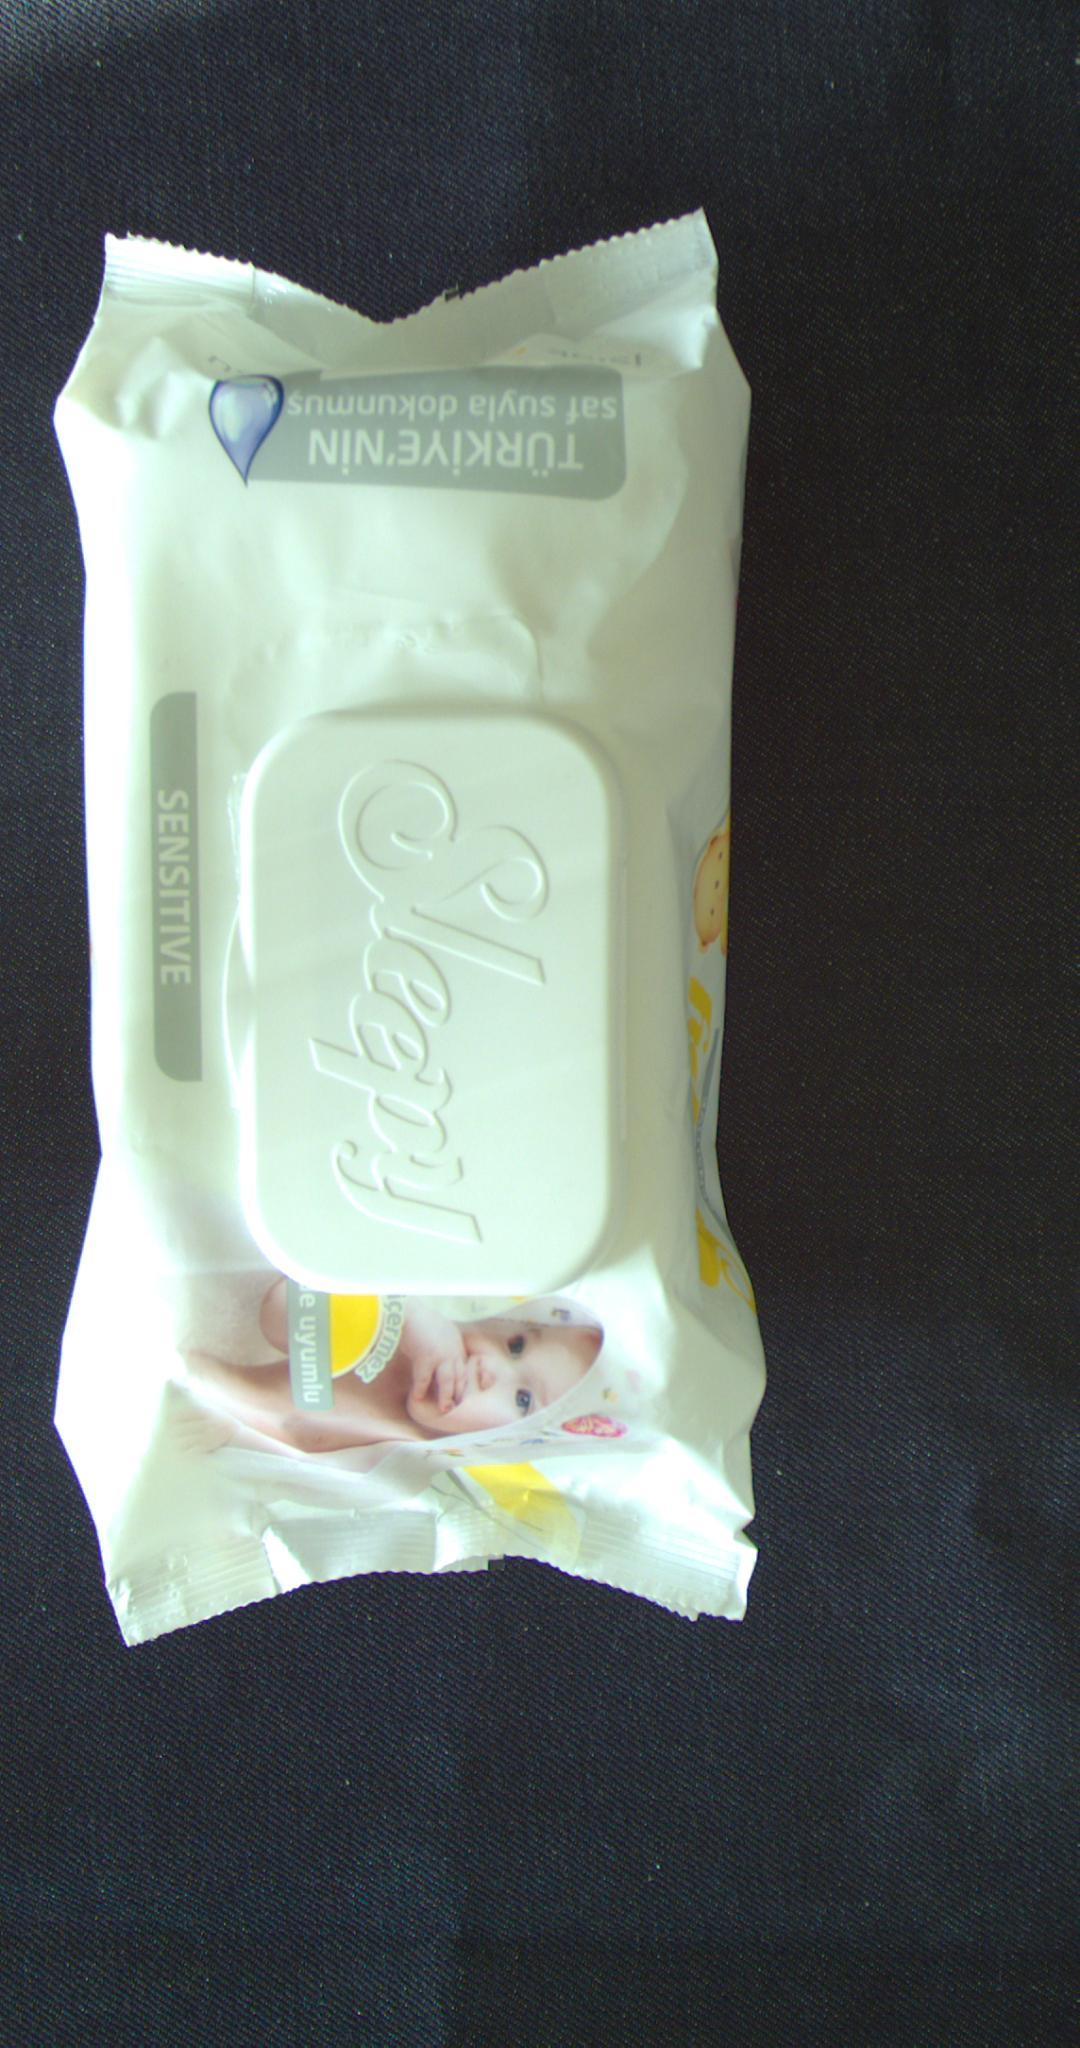kapak: (234, 707, 626, 1300)
